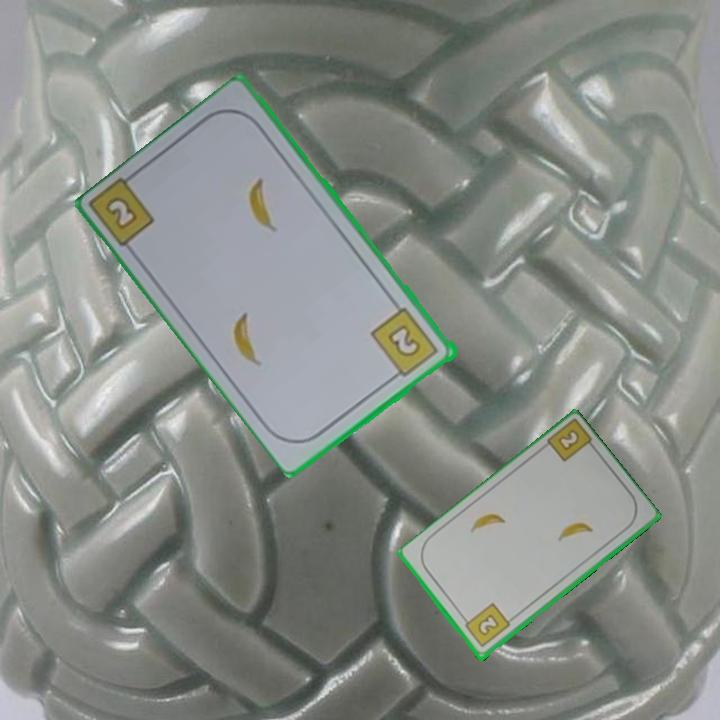2b: (368, 304, 442, 383), (459, 600, 513, 651), (105, 196, 138, 230), (554, 426, 583, 454)
